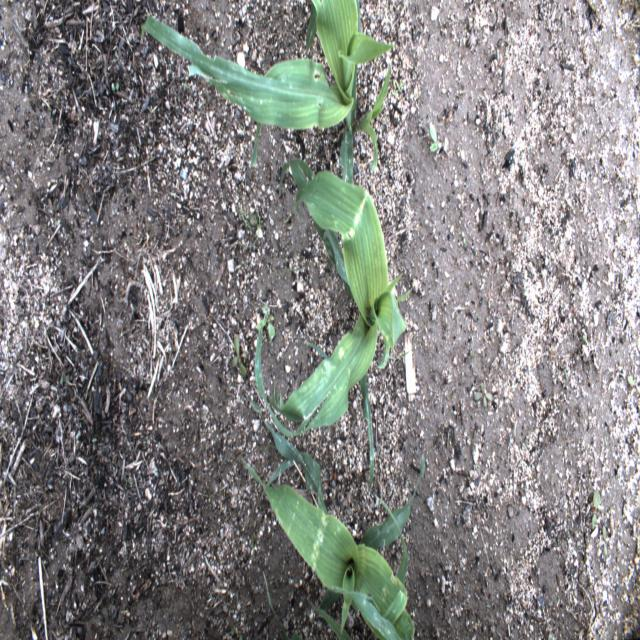crop: (254, 159, 414, 494), (140, 0, 394, 203), (242, 397, 425, 639), (325, 587, 403, 639), (263, 570, 303, 640), (307, 601, 352, 639)
weed: (238, 203, 268, 249), (230, 332, 248, 379), (257, 304, 276, 341), (474, 381, 494, 409), (592, 488, 604, 528), (429, 120, 442, 150), (598, 525, 610, 556), (626, 372, 640, 396), (252, 517, 258, 547), (111, 81, 119, 91)
